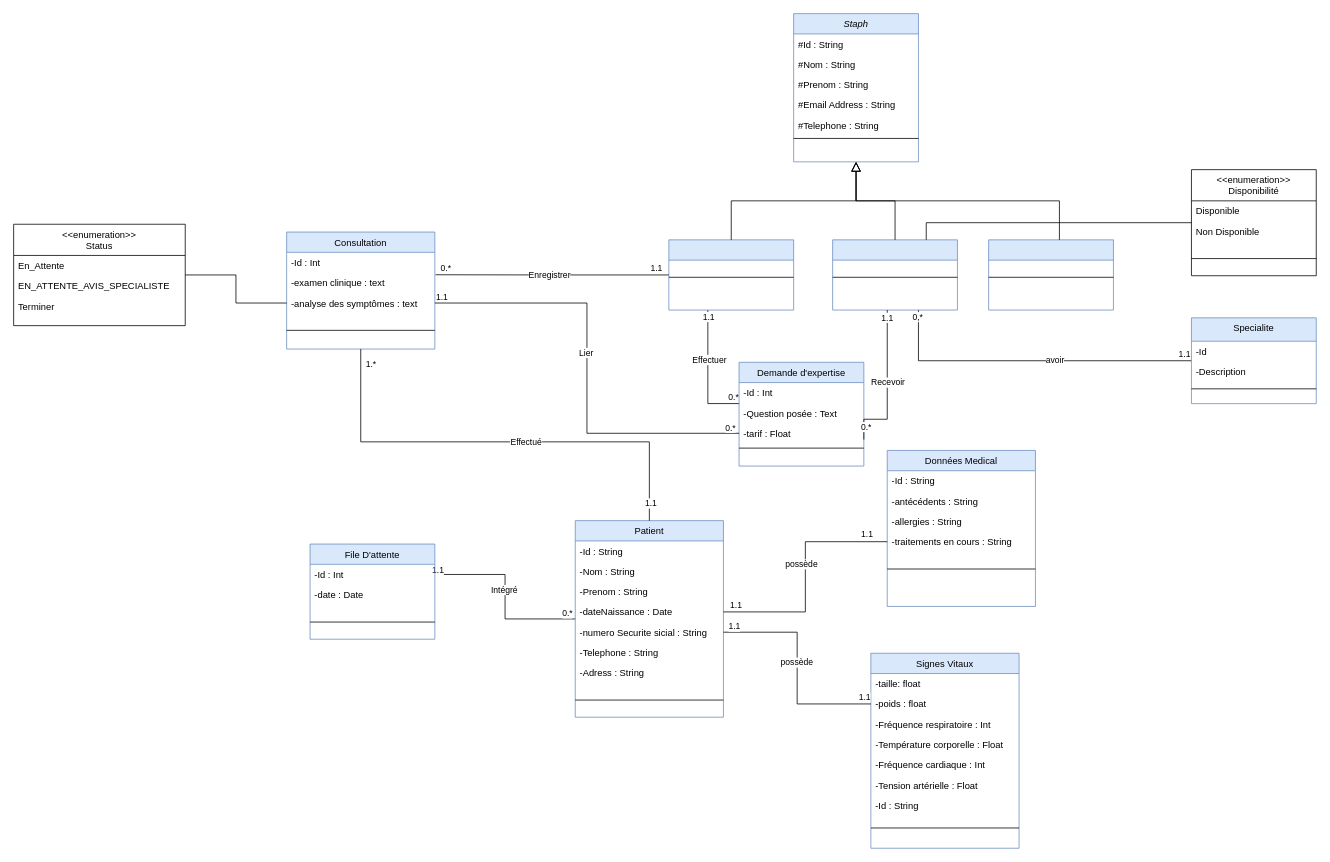
Some shapes in this 1330 by 862 pixel diagram are drawn without their labels. The centre of each missing label's shape, as x and y in pixels:
"Infirmière" goes at (x=1050, y=274).
"Médecin Géneral" goes at (x=731, y=274).
"Médecin Specialiste" goes at (x=894, y=274).
